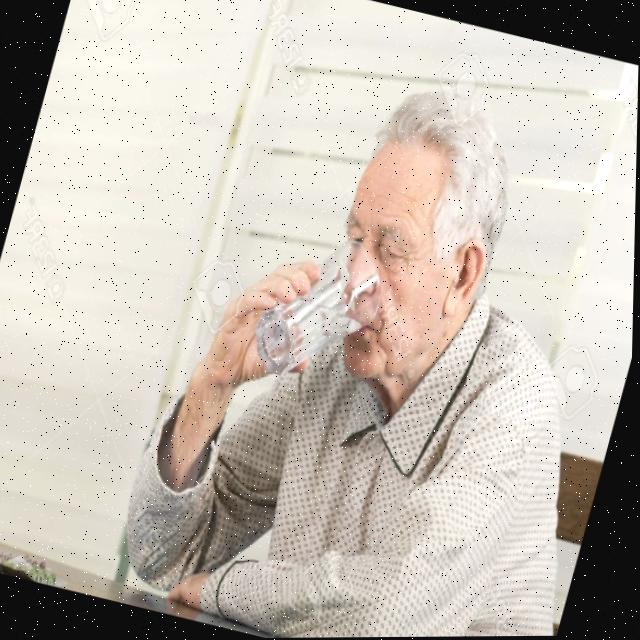eating-person: (100, 35, 639, 639)
